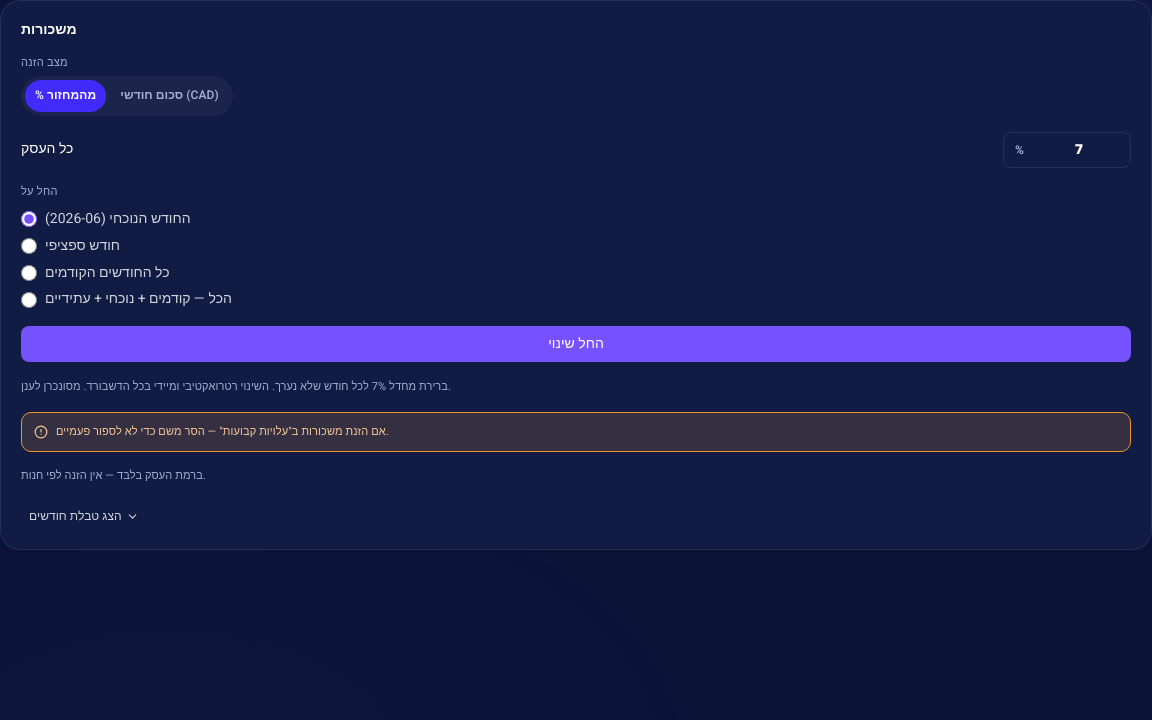
Test case: SalarySettings › hides the months timeline by default and expands on toggle
Click the button with test id "salary-timeline-toggle" at (84, 516), box 21,504 -> 147,529
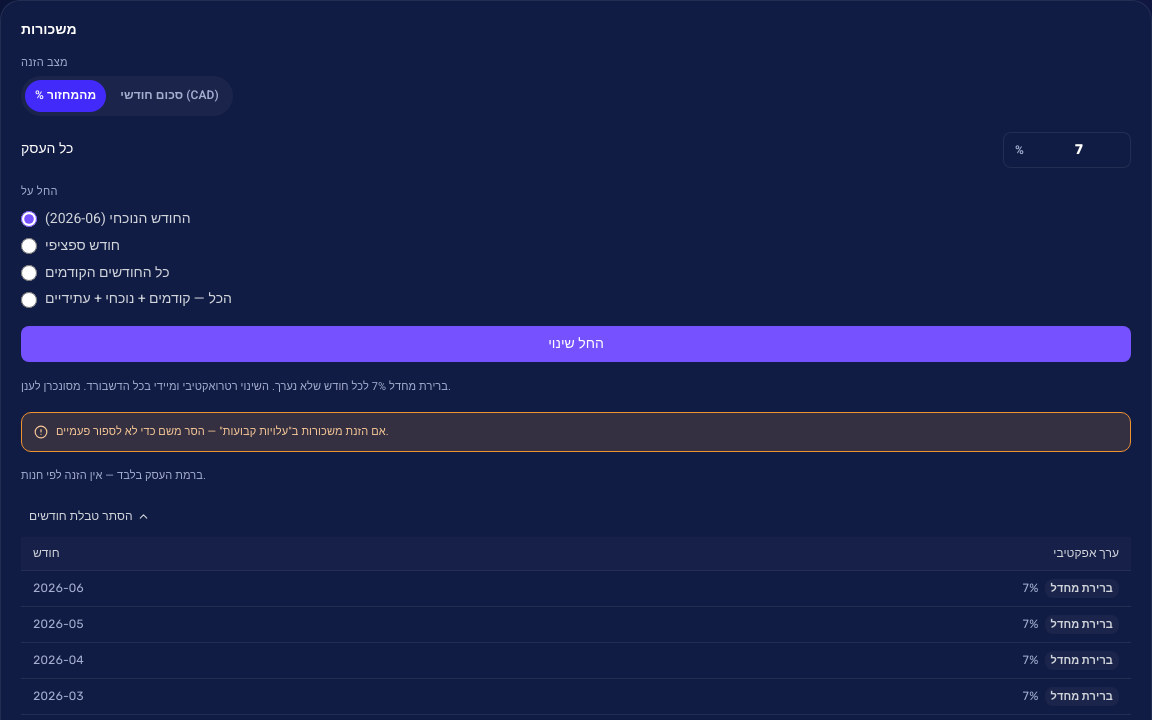
Now the button with test id "salary-timeline-toggle" is expanded, box 21,504 -> 158,529
Now the text with test id "salary-default-2026-06" is shown, box 1045,579 -> 1119,598
